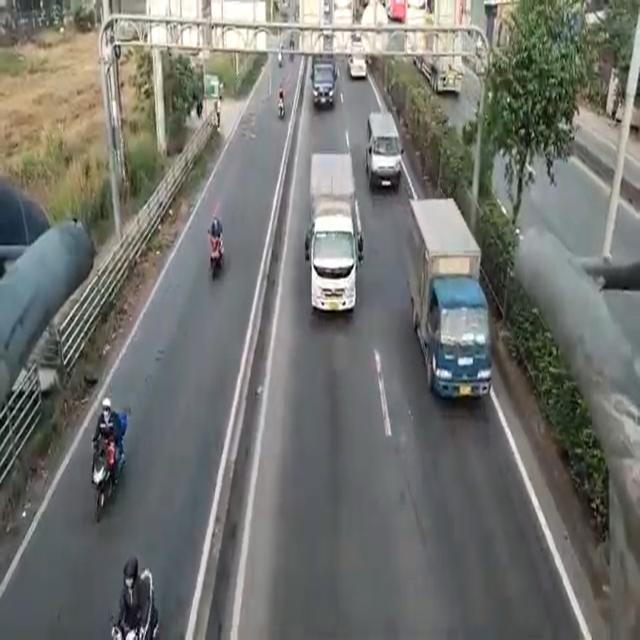motor: (88, 407, 119, 530), (114, 559, 150, 640), (202, 206, 228, 282)
truck: (405, 192, 495, 396), (303, 147, 363, 318), (360, 107, 401, 195), (311, 54, 336, 112)
